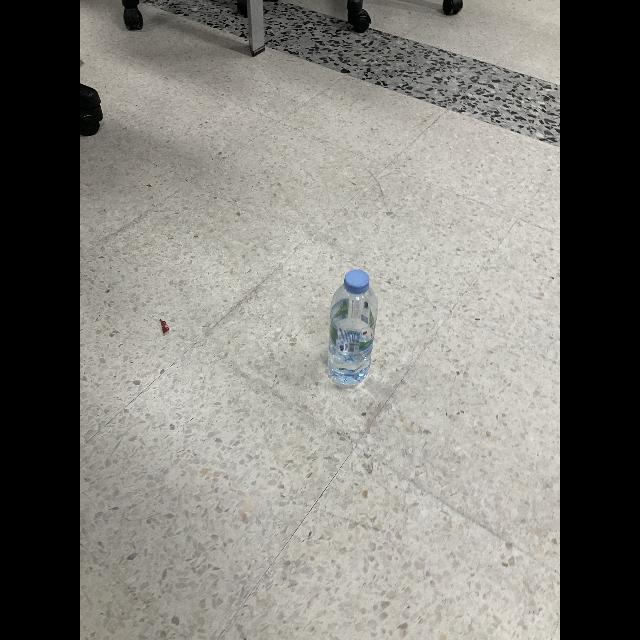plastic_bottle: (325, 270, 377, 390)
plastic_bottle_cap: (344, 268, 370, 294)
